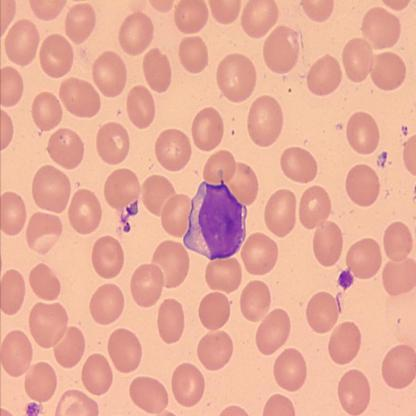Atypical lymphocyte: (183, 182, 248, 260)
